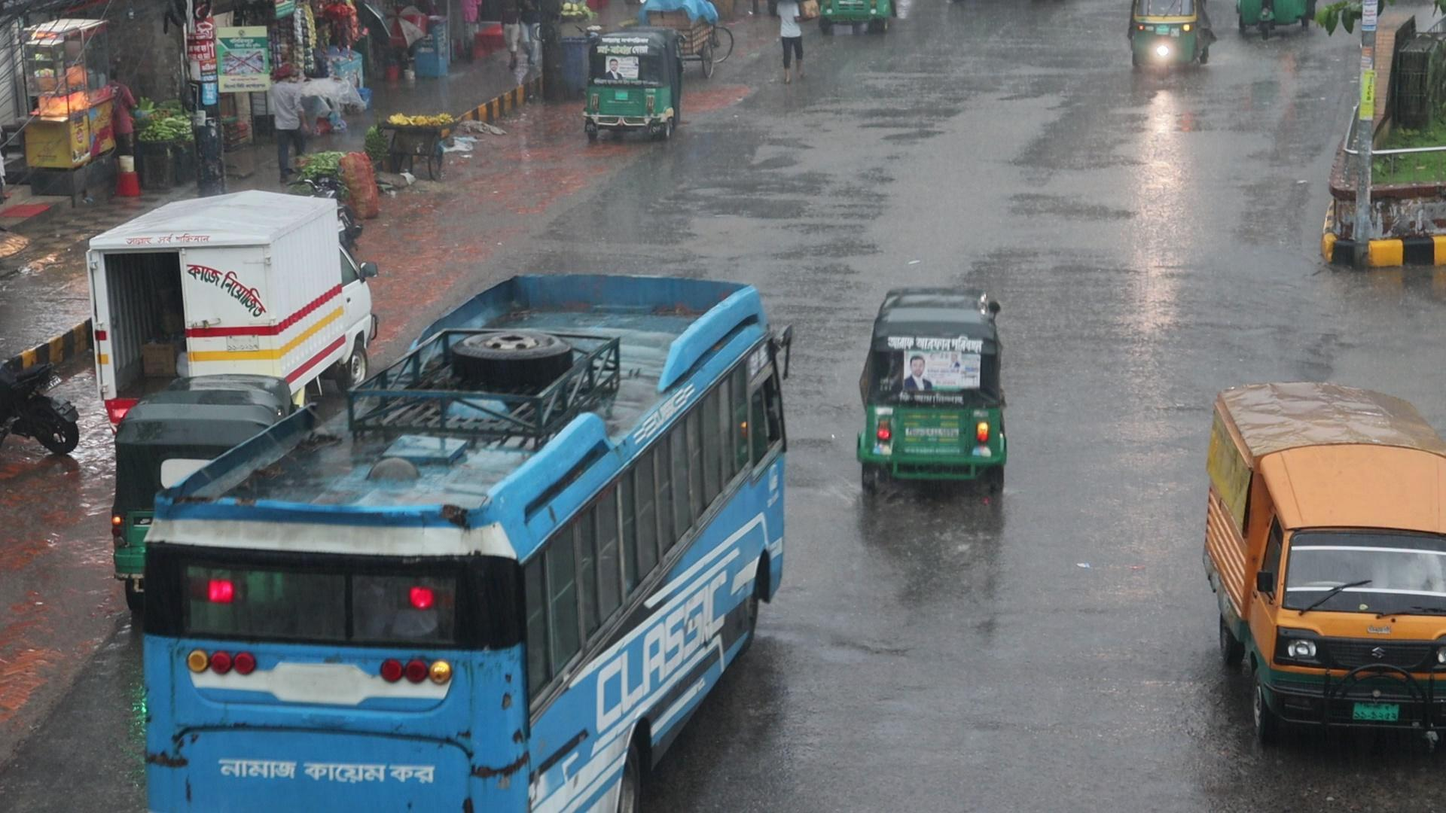Bus: (135, 260, 792, 813)
